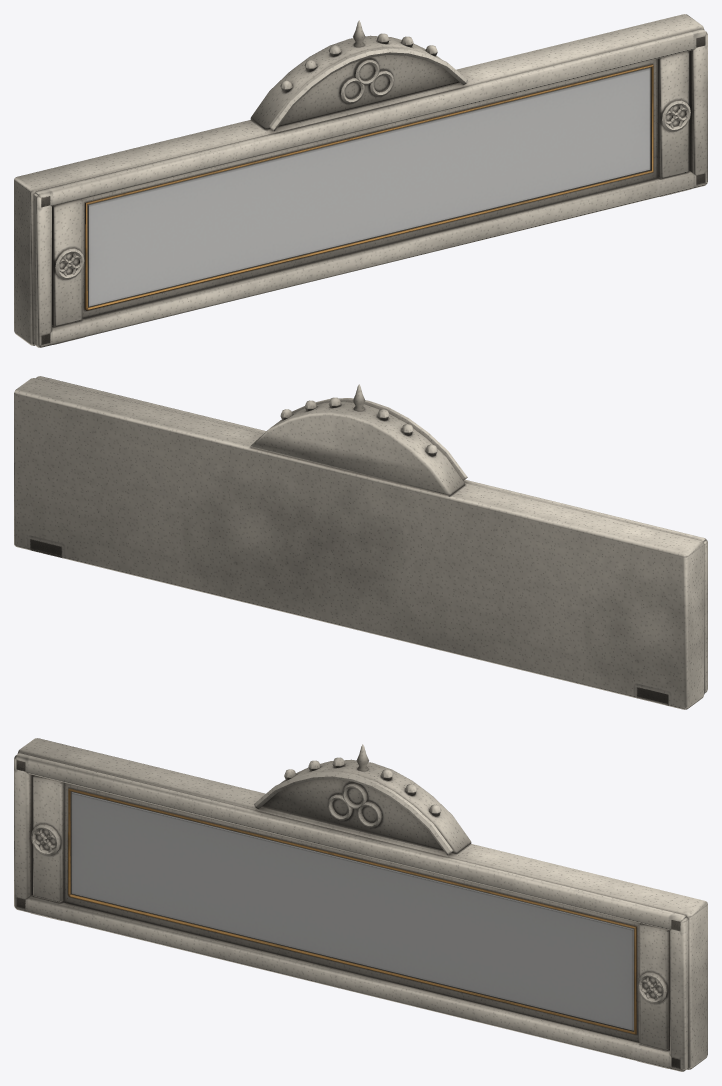
The model's file is LintelTablet.fbx.
3 views of the same model, one above another, from view 1: azimuth 30°, elevation 25°; view 2: azimuth 150°, elevation 25°; view 3: azimuth 330°, elevation 25° (orthographic).
Visible parts, largest first — view 1: LintelTablet_Main, LintelTablet_Field; view 2: LintelTablet_Main; view 3: LintelTablet_Main, LintelTablet_Field.
Part boxes in pixels (x1,y1,x2,y2): LintelTablet_Main: [14, 14, 707, 347]; LintelTablet_Field: [88, 68, 650, 306]; LintelTablet_Main: [14, 376, 707, 709]; LintelTablet_Main: [14, 738, 707, 1071]; LintelTablet_Field: [71, 792, 633, 1030].
Size of the model in its own units: 600 by 203 by 37.7.
